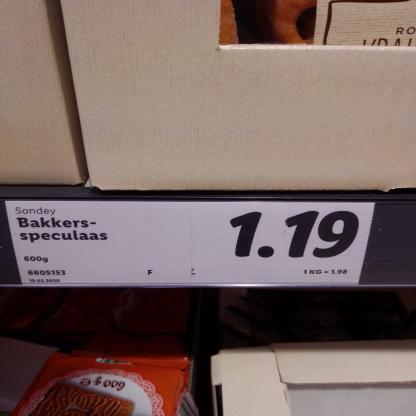prtg: (5, 202, 376, 286)
